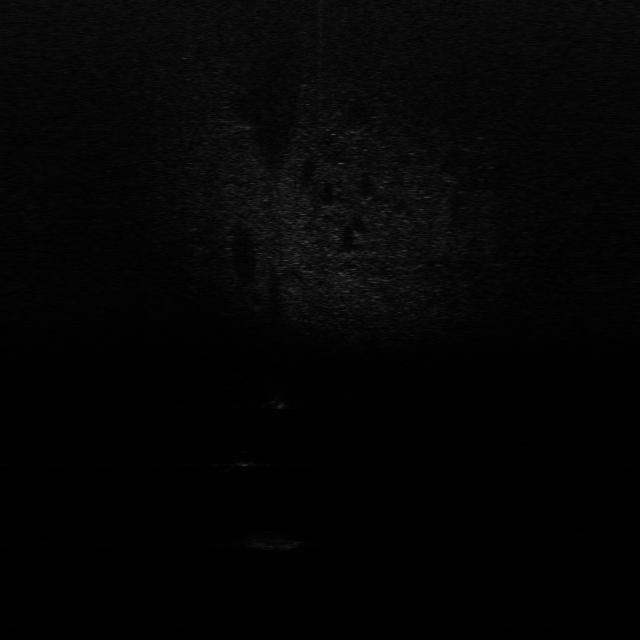ball: (230, 446, 260, 469)
circle cage: (246, 529, 304, 553)
human body: (270, 383, 290, 419)
